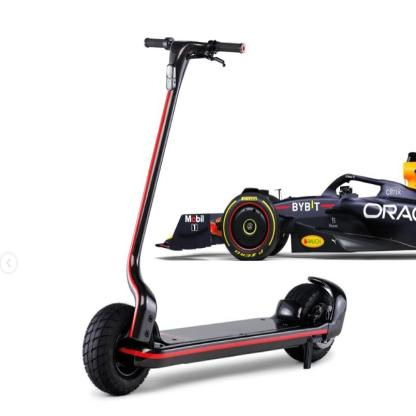kickboard: (78, 28, 350, 398)
